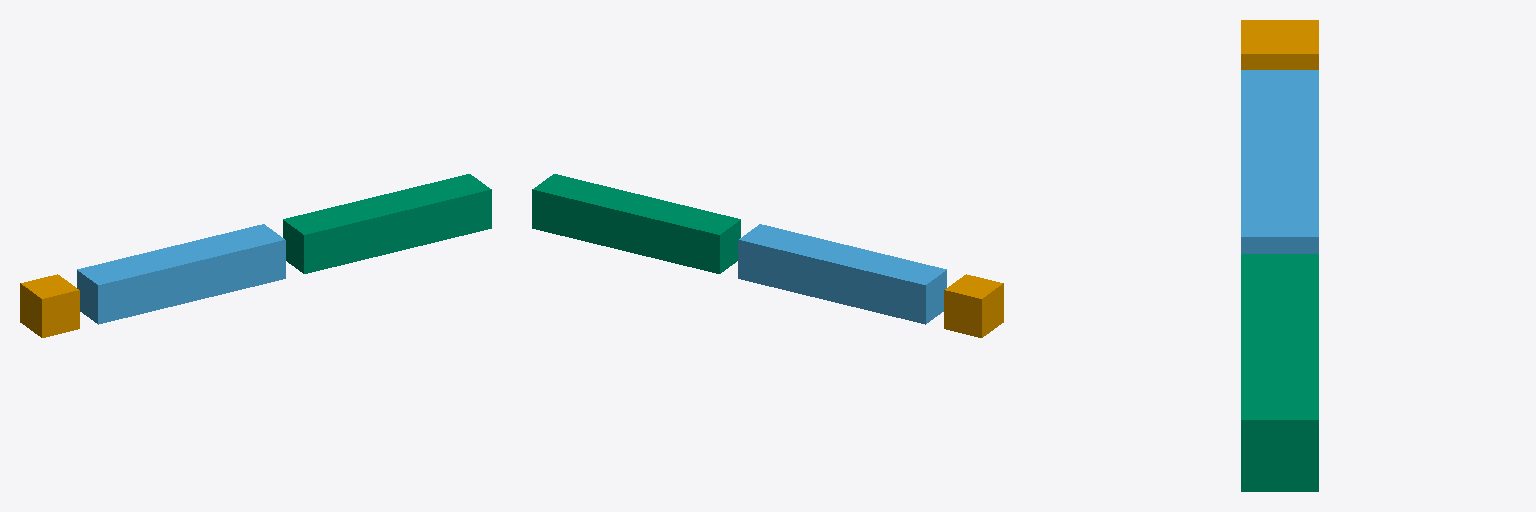
URDF robot description (simple_fixed_floating_joints):
<?xml version="1.0"?>
<robot name="simple_fixed_floating_joints">
  <link name="BaseLink">
    <visual>
      <origin rpy="0 0 0" xyz="0.0 0 0"/>
      <geometry>
        <box size="0.2 0.2 0.2"/>
      </geometry>
    </visual>
  </link>
  <link name="Arm:1">
    <visual>
      <origin rpy="0 0 0" xyz="0.55 0 0"/>
      <geometry>
        <box size="1.0 0.2 0.2"/>
      </geometry>
    </visual>
  </link>
  <link name="Arm:2">
    <visual>
      <origin rpy="0 0 0" xyz="0.55 0 0"/>
      <geometry>
        <box size="1.0 0.2 0.2"/>
      </geometry>
    </visual>
  </link>

  <joint name="joint_root" type="fixed">
    <origin rpy="0 0 0" xyz="0.15 0 0.0"/>
    <parent link="BaseLink"/>
    <child link="Arm:1"/>
  </joint>
  <joint name="joint_arm:1" type="floating">
    <origin rpy="0 0 0" xyz="1.1 0 0.0"/>
    <parent link="Arm:1"/>
    <child link="Arm:2"/>
  </joint>
</robot>

--- Facts derived from the render (not from the file) ---
3 views of the same robot in one strip: view 1: azimuth 30°, elevation 25°; view 2: azimuth 150°, elevation 25°; view 3: azimuth 270°, elevation 25° (orthographic).
Model simple_fixed_floating_joints with 3 links and 2 joints (1 fixed, 1 floating), rooted at BaseLink, posed every joint at zero.
Visible links, largest first — view 1: Arm:1, Arm:2, BaseLink; view 2: Arm:1, Arm:2, BaseLink; view 3: Arm:2, Arm:1, BaseLink.
Boxes of the visible links, x1,y1,x2,y2 form: Arm:1: [77, 224, 285, 324]; Arm:2: [283, 174, 491, 273]; BaseLink: [20, 274, 79, 337]; Arm:1: [738, 224, 946, 324]; Arm:2: [532, 174, 740, 273]; BaseLink: [944, 274, 1003, 337]; Arm:2: [1241, 254, 1318, 491]; Arm:1: [1241, 70, 1318, 253]; BaseLink: [1241, 20, 1318, 69].
Bounding box of the posed robot: 2.4 × 0.2 × 0.2 m (x, y, z).
Geometry: primitives only (box / cylinder / sphere), no mesh files.